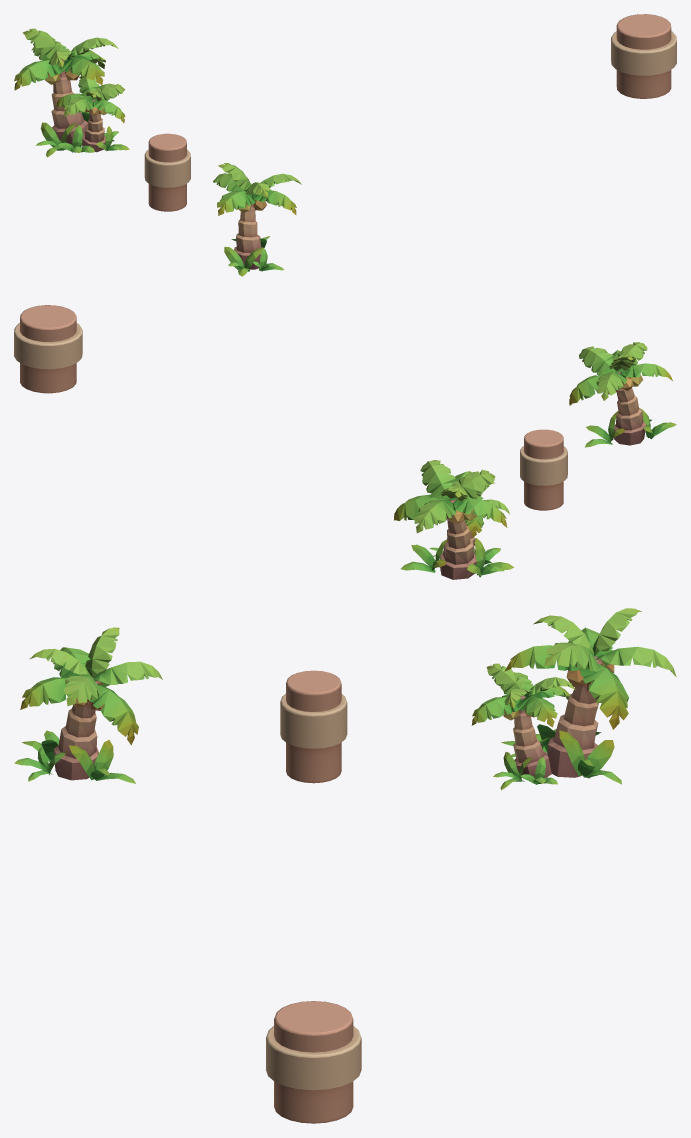
Rendered from Props.fbx.
3 views of the same model, one above another, from view 1: azimuth 30°, elevation 25°; view 2: azimuth 150°, elevation 25°; view 3: azimuth 270°, elevation 25° (orthographic). The views are drawn at different scales.
Parts seen in each view (by area): view 1: yezishu01, Cylinder, yezishu02, Cylinder-2; view 2: yezishu01, yezishu02, Cylinder, Cylinder-2; view 3: yezishu01, yezishu02, Cylinder, Cylinder-2.
Part boxes in pixels (x1,y1,x2,y2): yezishu01: [14, 28, 129, 157]; Cylinder: [611, 14, 676, 98]; yezishu02: [213, 163, 301, 276]; Cylinder-2: [144, 133, 190, 211]; yezishu01: [394, 460, 513, 579]; yezishu02: [569, 342, 676, 447]; Cylinder: [14, 305, 82, 393]; Cylinder-2: [520, 429, 567, 510]; yezishu01: [471, 608, 676, 790]; yezishu02: [14, 627, 162, 783]; Cylinder: [266, 1001, 361, 1123]; Cylinder-2: [280, 670, 347, 783].
Bounding box in the file's own units: 47.36 × 8.33 × 33.42.
2 materials, 2 textured.
